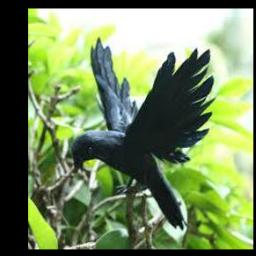Crow: (71, 36, 215, 231)
